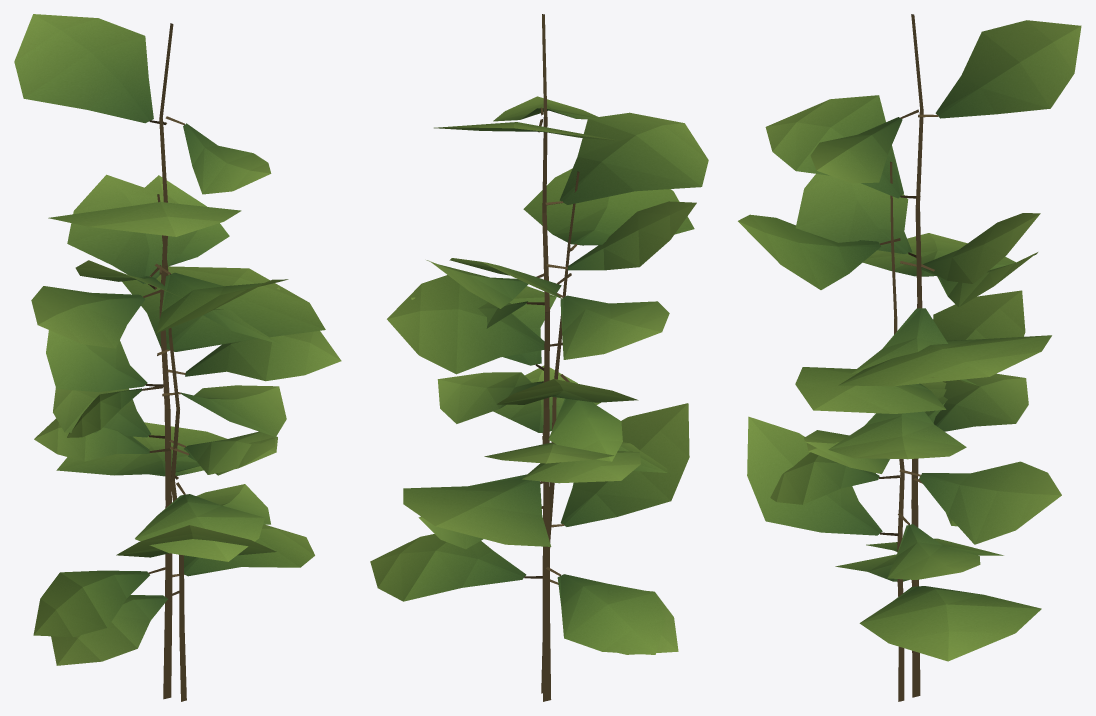
File: forest_shrub_001_d_LOD1.gltf
The picture shows the model from 3 angles, left to right: view 1: azimuth 30°, elevation 25°; view 2: azimuth 150°, elevation 25°; view 3: azimuth 270°, elevation 25°; orthographic projection.
Visible parts, largest first — view 1: forest_shrub_001_d_LOD1; view 2: forest_shrub_001_d_LOD1; view 3: forest_shrub_001_d_LOD1.
Part boxes in pixels (x1,y1,x2,y2): forest_shrub_001_d_LOD1: [14, 14, 341, 701]; forest_shrub_001_d_LOD1: [370, 14, 708, 701]; forest_shrub_001_d_LOD1: [738, 14, 1081, 701].
Bounding box in the file's own units: 0.6161 × 1.35 × 0.6177.
Materials: 1 (1 with a texture image).
